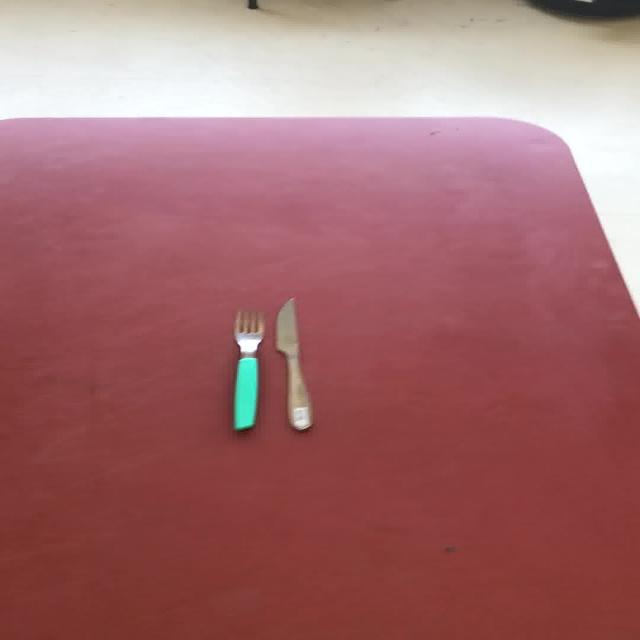fork: (230, 309, 264, 431)
knife fork: (273, 296, 312, 431)
